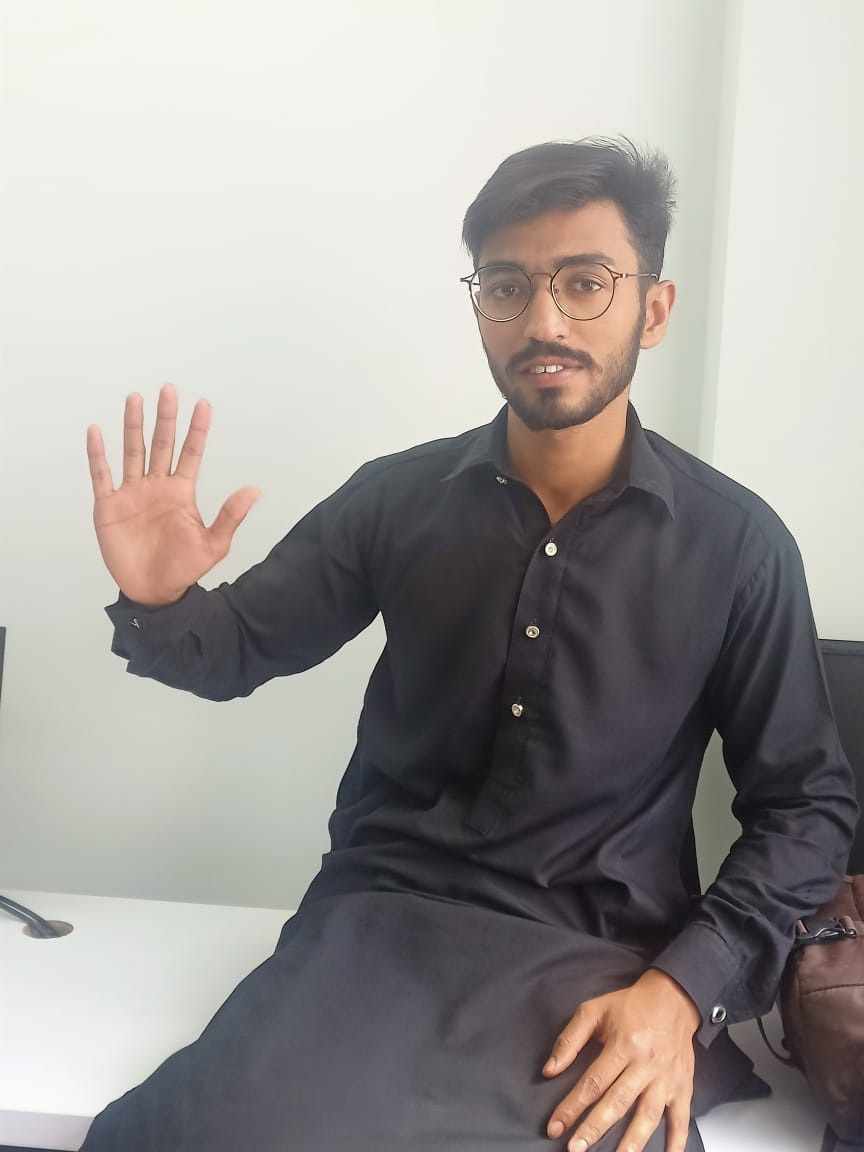Hello: (75, 365, 272, 609)
